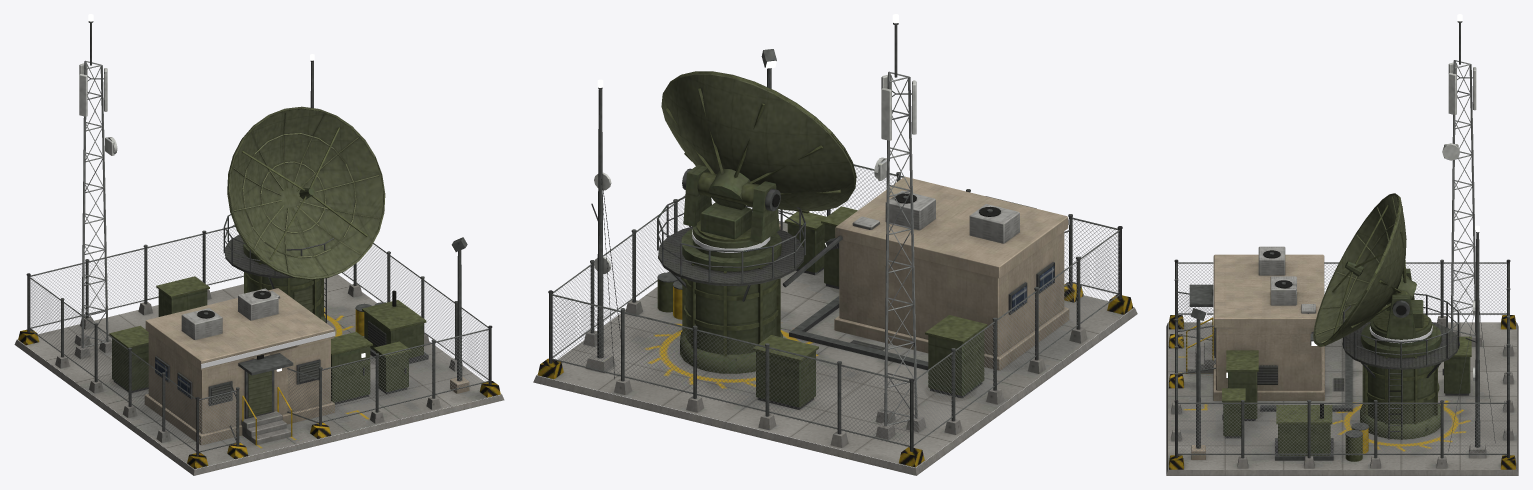
Rendered from radar.glb.
3 renders of one model, left to right at view 1: azimuth 30°, elevation 25°; view 2: azimuth 150°, elevation 25°; view 3: azimuth 270°, elevation 25°, orthographic. The views are drawn at different scales.
Visible parts, largest first — view 1: Building, RadarDish; view 2: Building, RadarDish; view 3: Building, RadarDish.
Boxes of the visible parts, <box> form: Building: <box>14,21,504,475</box>; RadarDish: <box>227,106,385,279</box>; Building: <box>533,23,1137,475</box>; RadarDish: <box>661,71,856,257</box>; Building: <box>1166,21,1518,475</box>; RadarDish: <box>1313,193,1432,347</box>.
Bounding box in the file's own units: 12 × 12.55 × 12.
Materials: 9 (2 with a texture image).
